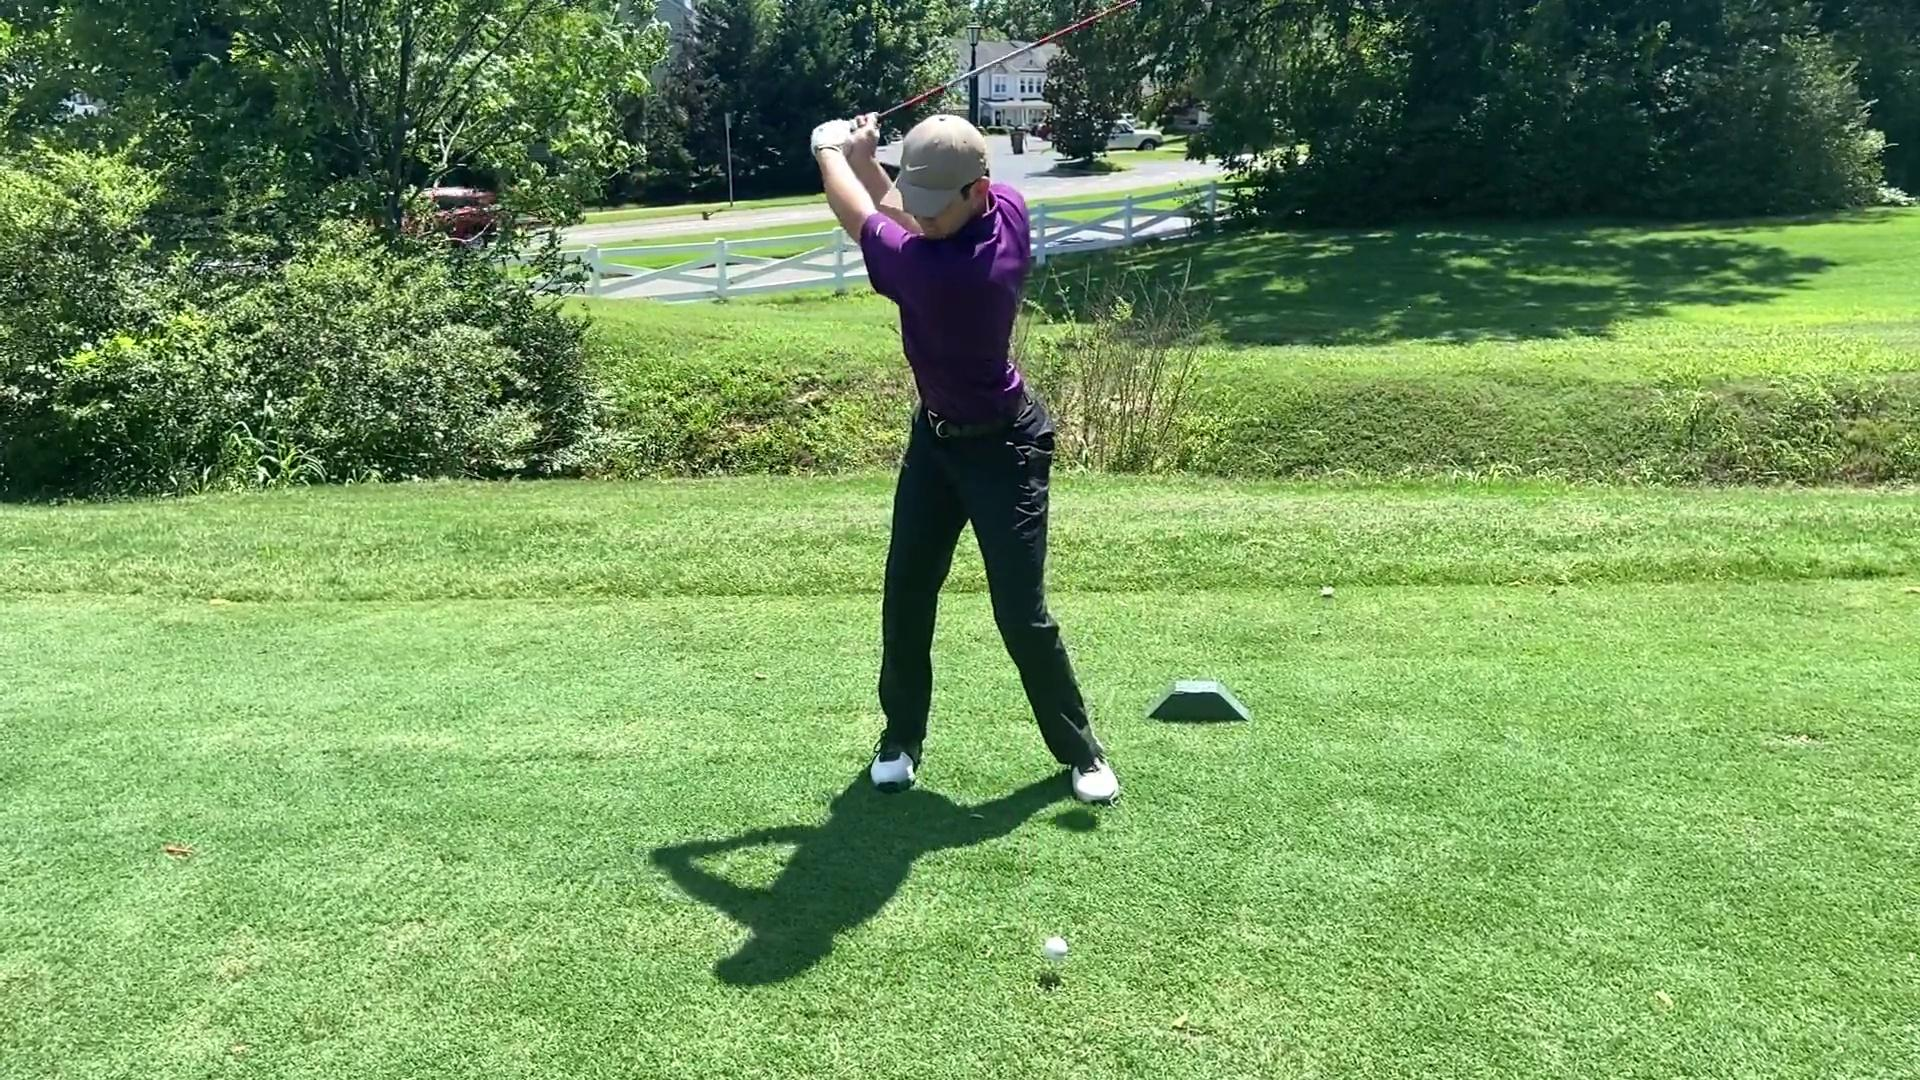GolfBall: (1043, 934, 1068, 963)
